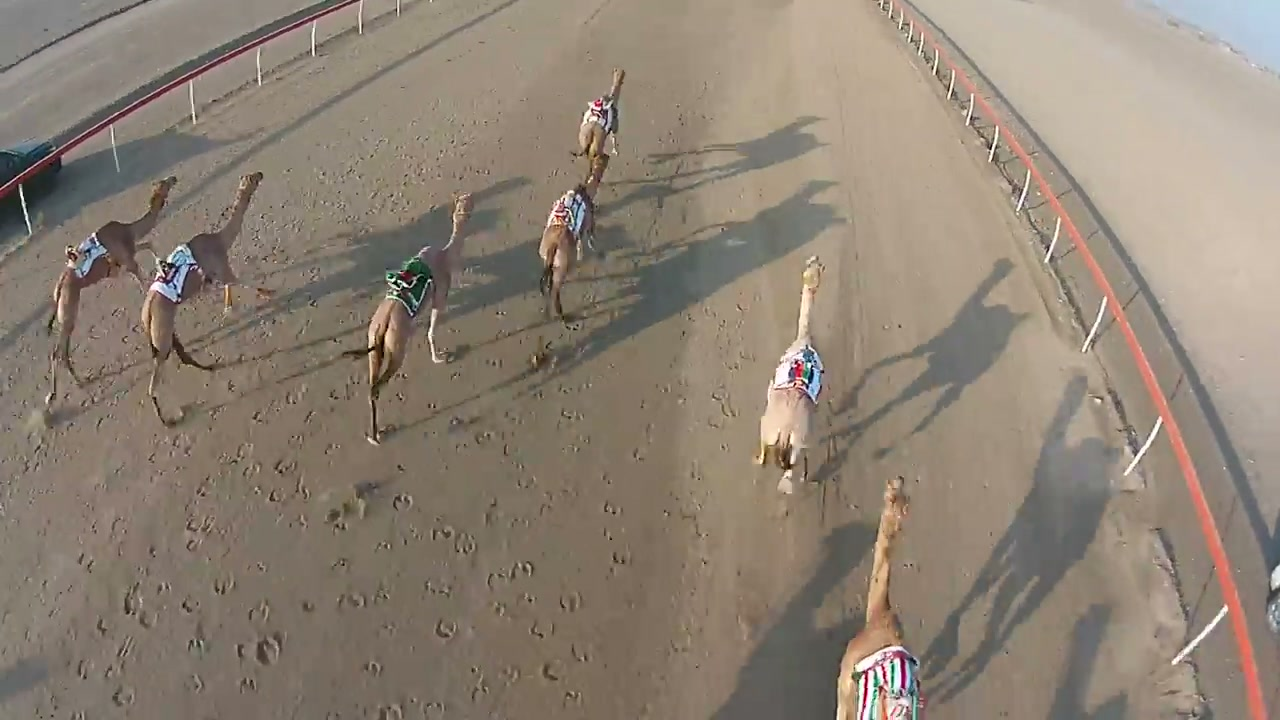animal_footprint: (0, 317, 688, 719)
